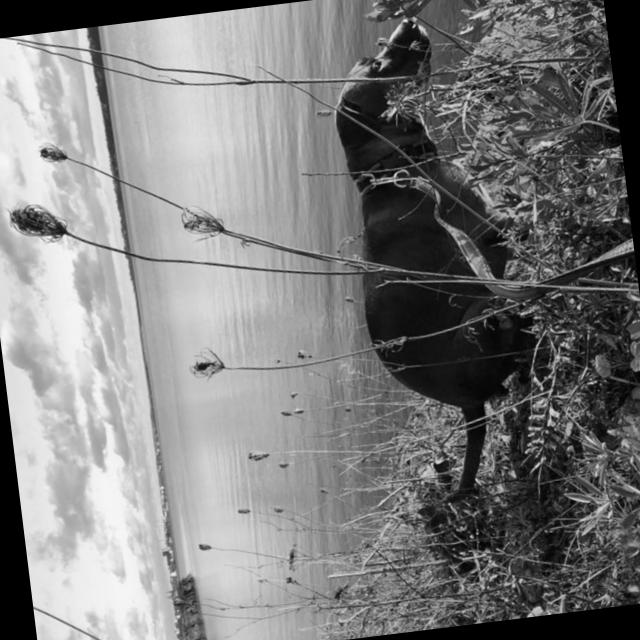squatting: (304, 1, 572, 524)
